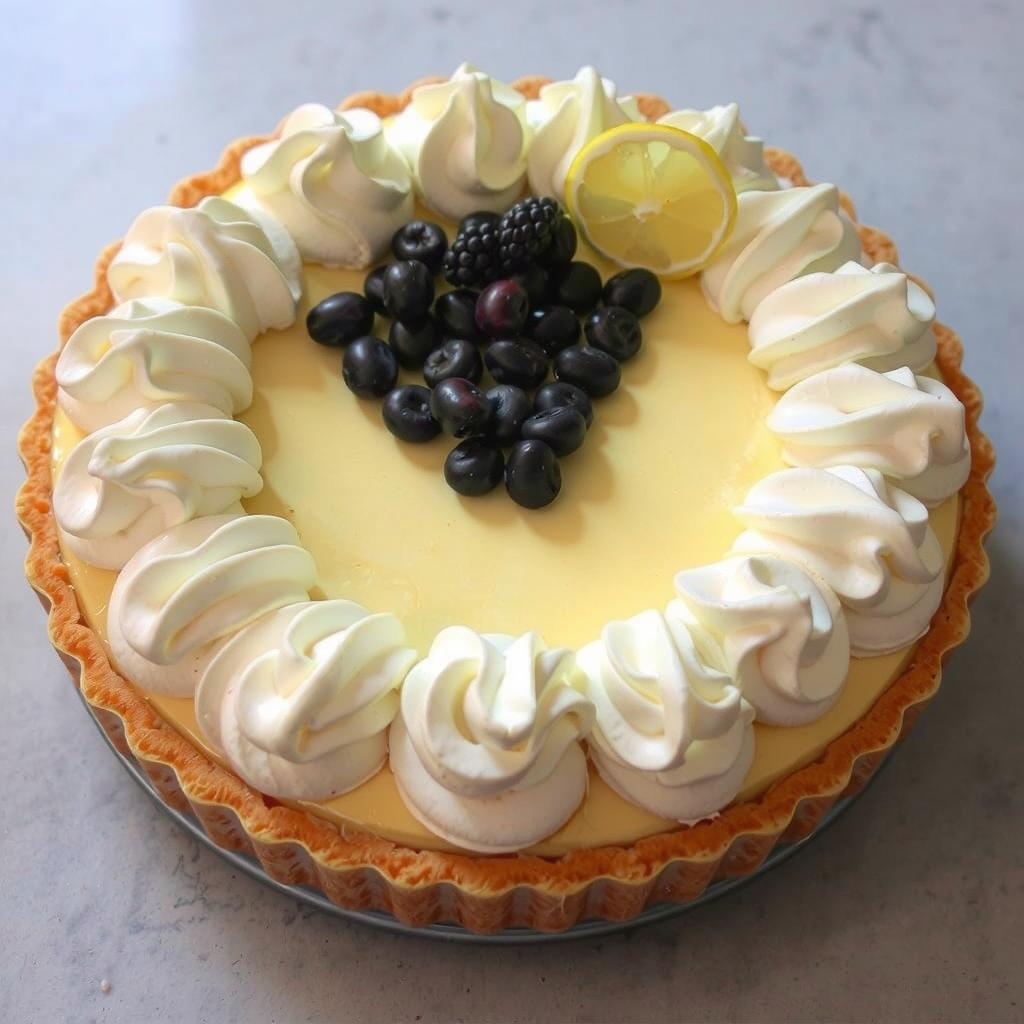pie: (0, 56, 1001, 950)
